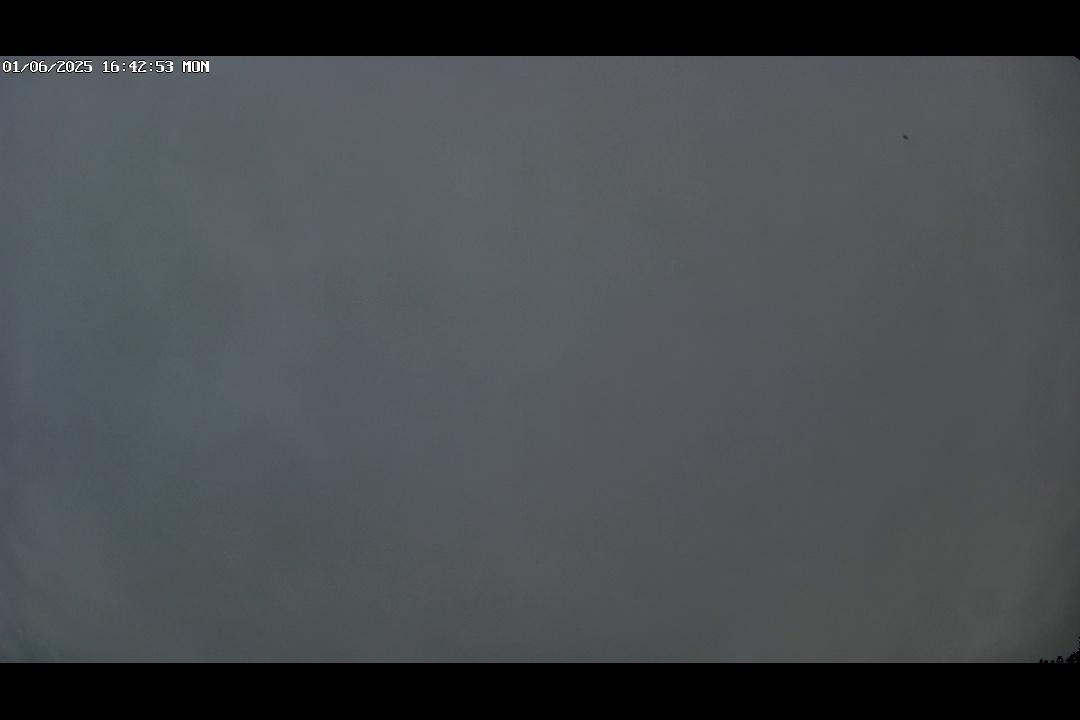Plane: (899, 126, 916, 146)
